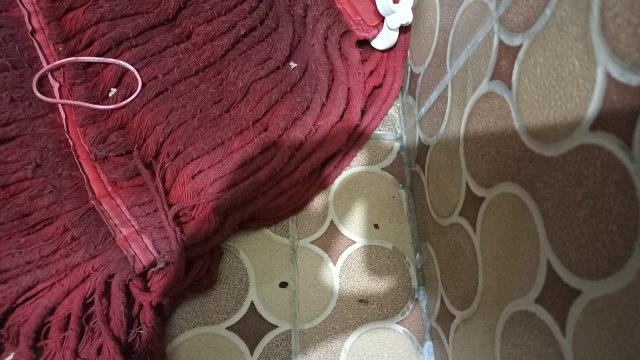karet: (32, 56, 142, 109)
